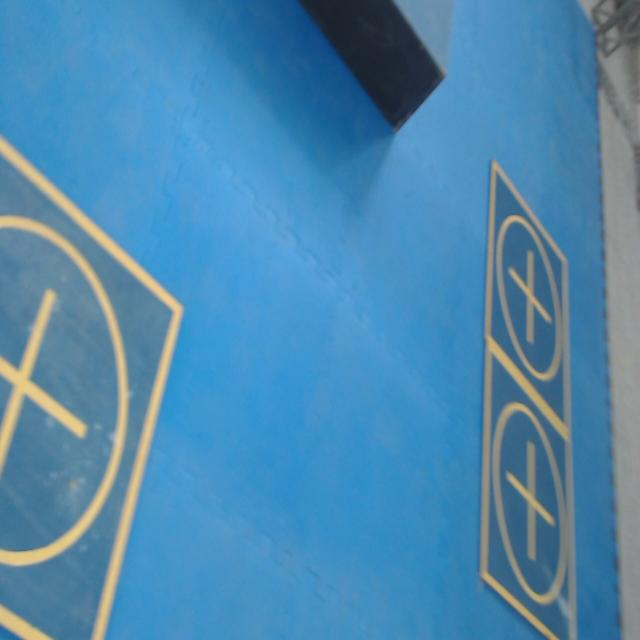base_pouso: (0, 136, 185, 639), (479, 339, 579, 639), (484, 158, 571, 436)
